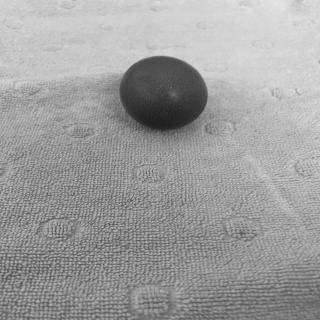Telur: (118, 54, 209, 132)
